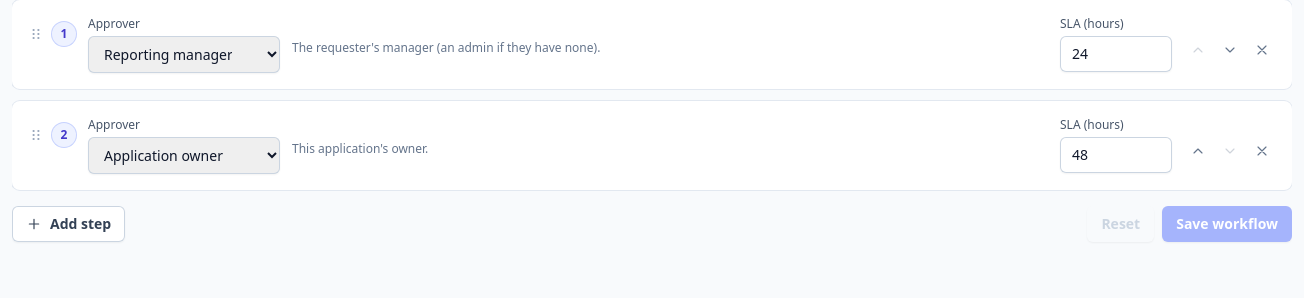
Test: WorkflowBuilder › shows API validation errors on the right step
Step 1. Replace the text in the 1st number field labelled "SLA (hours)" with "100" → {"x": 1116, "y": 54}, box [1060,36,1172,72]
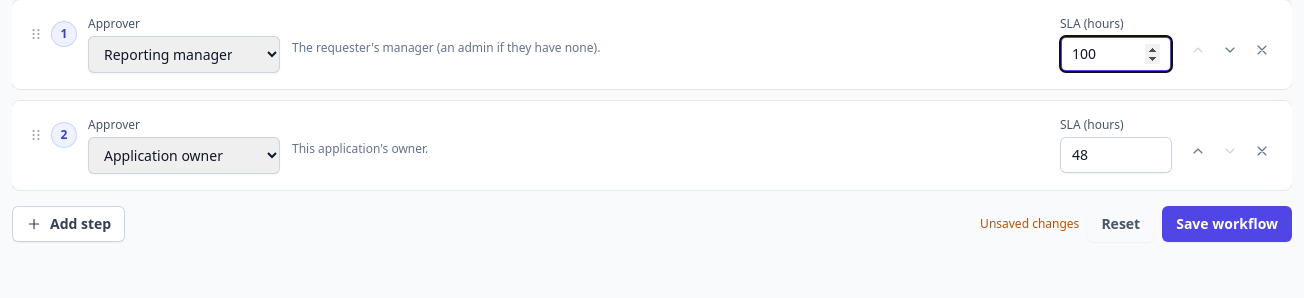
Step 2. Click the button "Save workflow" → {"x": 1227, "y": 224}, box [1162,206,1292,242]
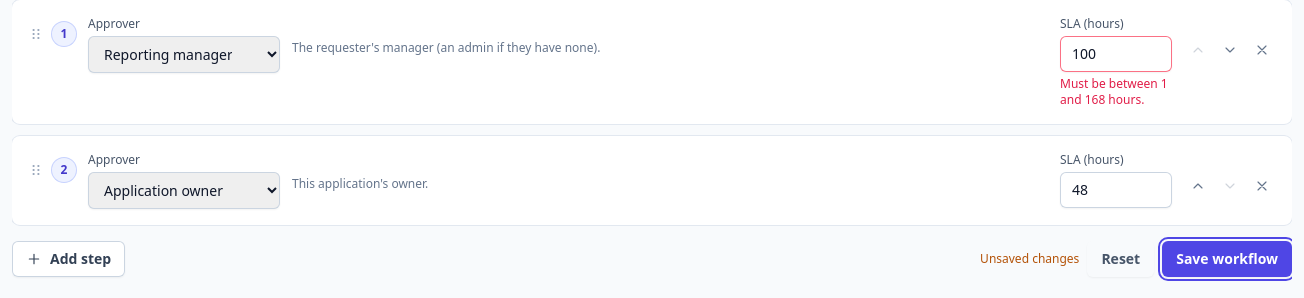
Expected: the text "Must be between 1 and 168 hours." is shown, [1060,76,1172,108]
